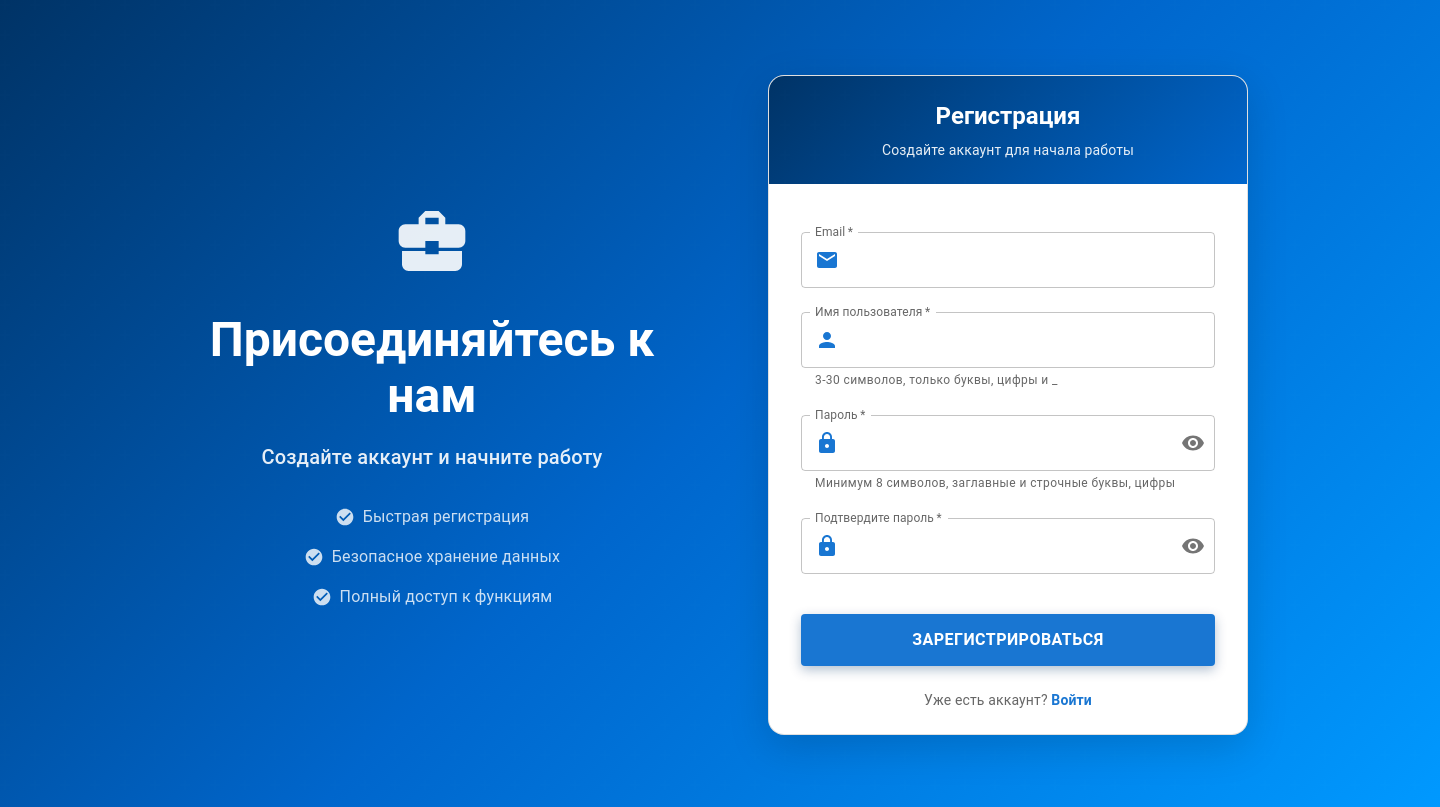
Test case: RegisterPage › handles registration error
This screenshot has width=1440, height=807.
Step 1. Type "test@example.com" into the field labelled "Email *" → (1031, 260), box [847,232,1215,288]
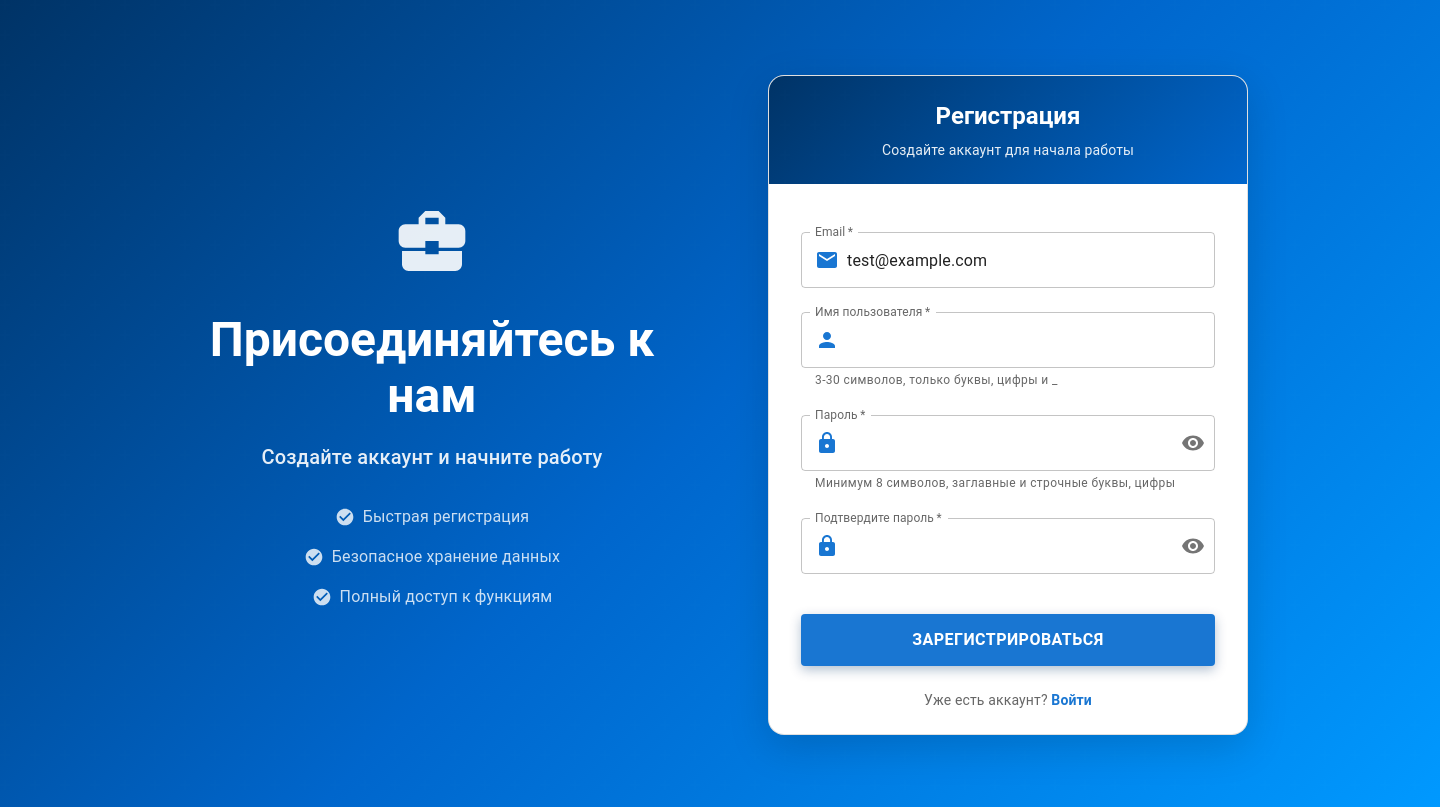
Step 2. Type "testuser" into the field labelled "Имя пользователя *" → (1031, 340), box [847,312,1215,368]
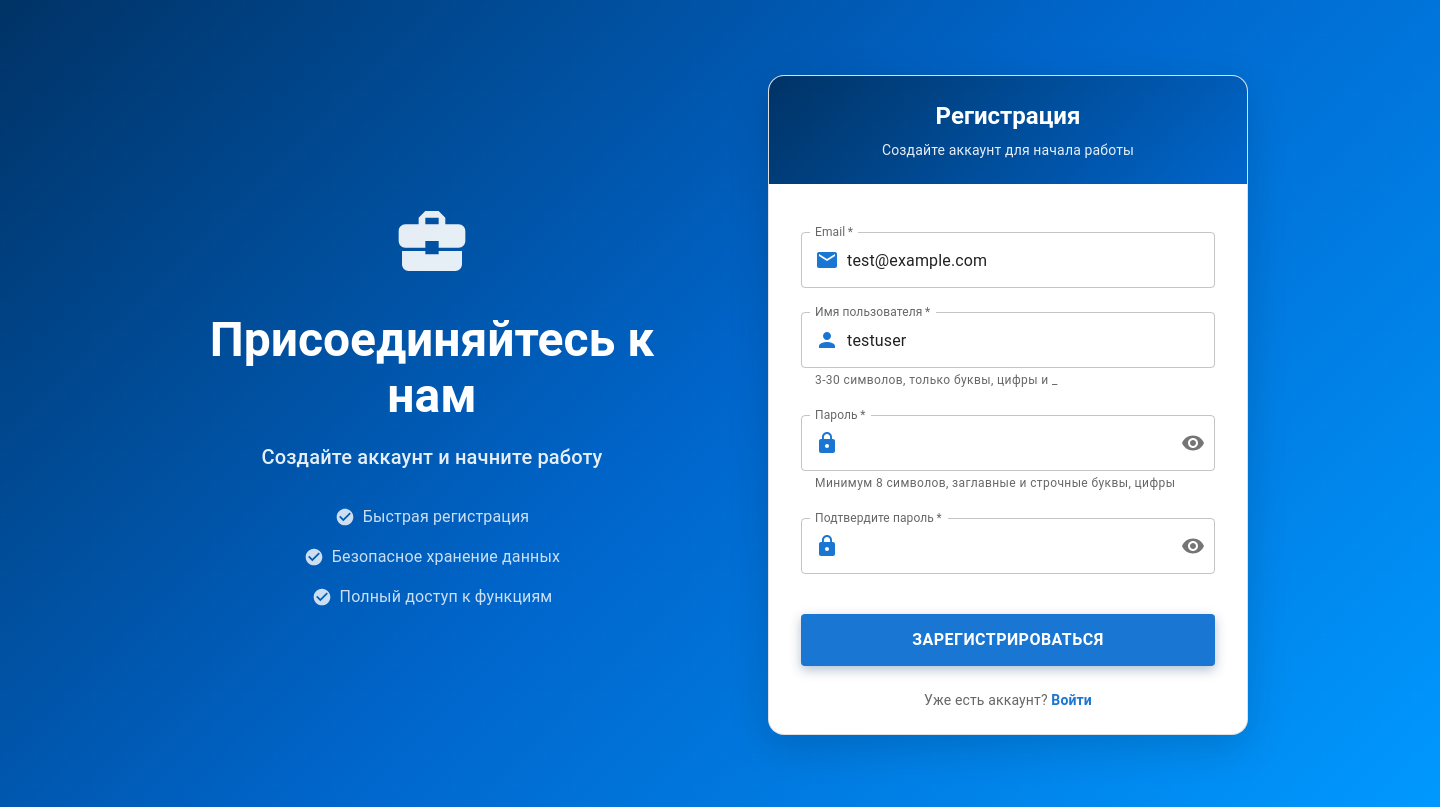
There are two password fields - get both
Step 3. Type "TestPassword123" into the password field labelled "Пароль *" → (1006, 443), box [847,415,1165,471]
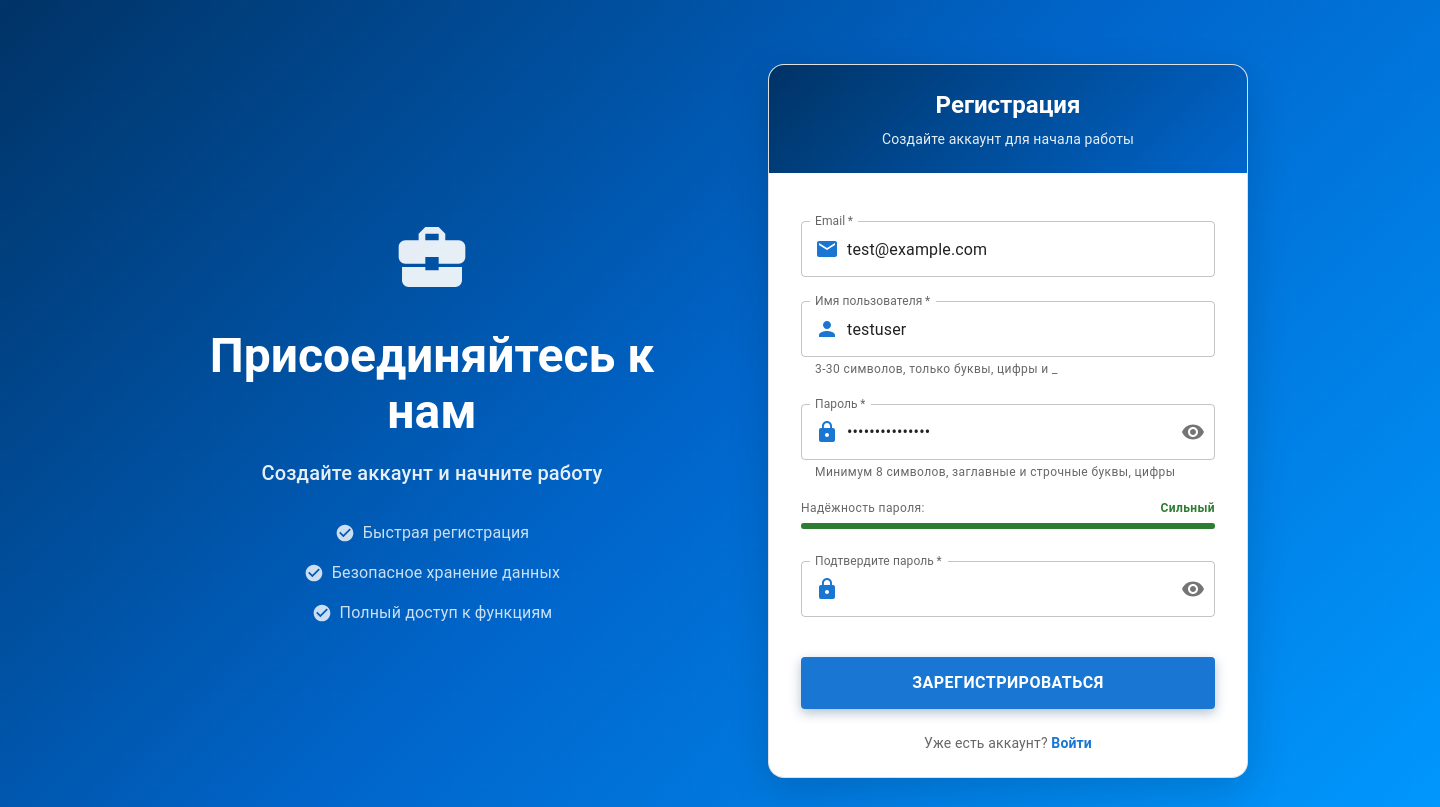
Step 4. Type "TestPassword123" into the password field labelled "Подтвердите пароль *" → (1006, 589), box [847,561,1165,617]
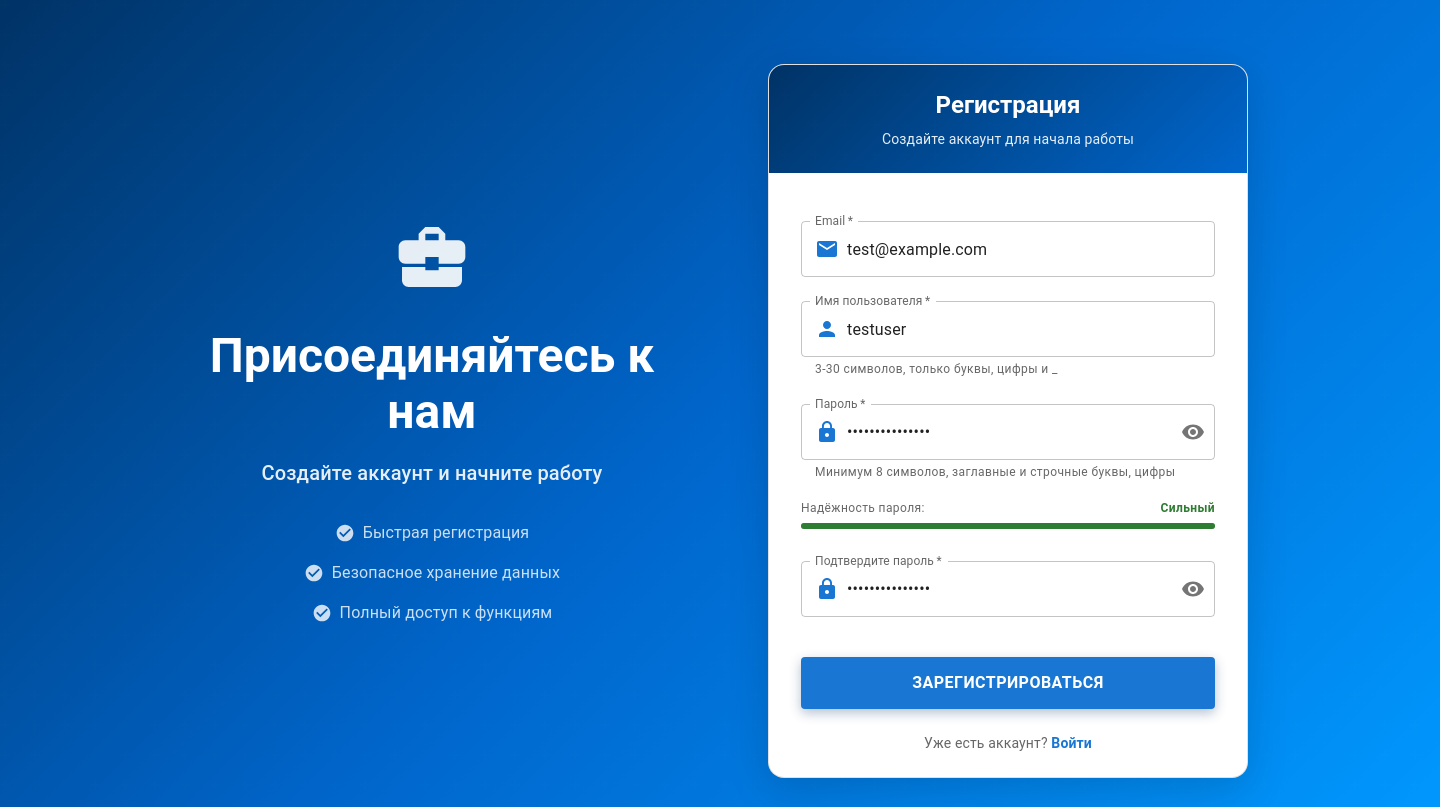
Step 5. Click the button "Зарегистрироваться" → (1008, 683), box [801,657,1215,709]
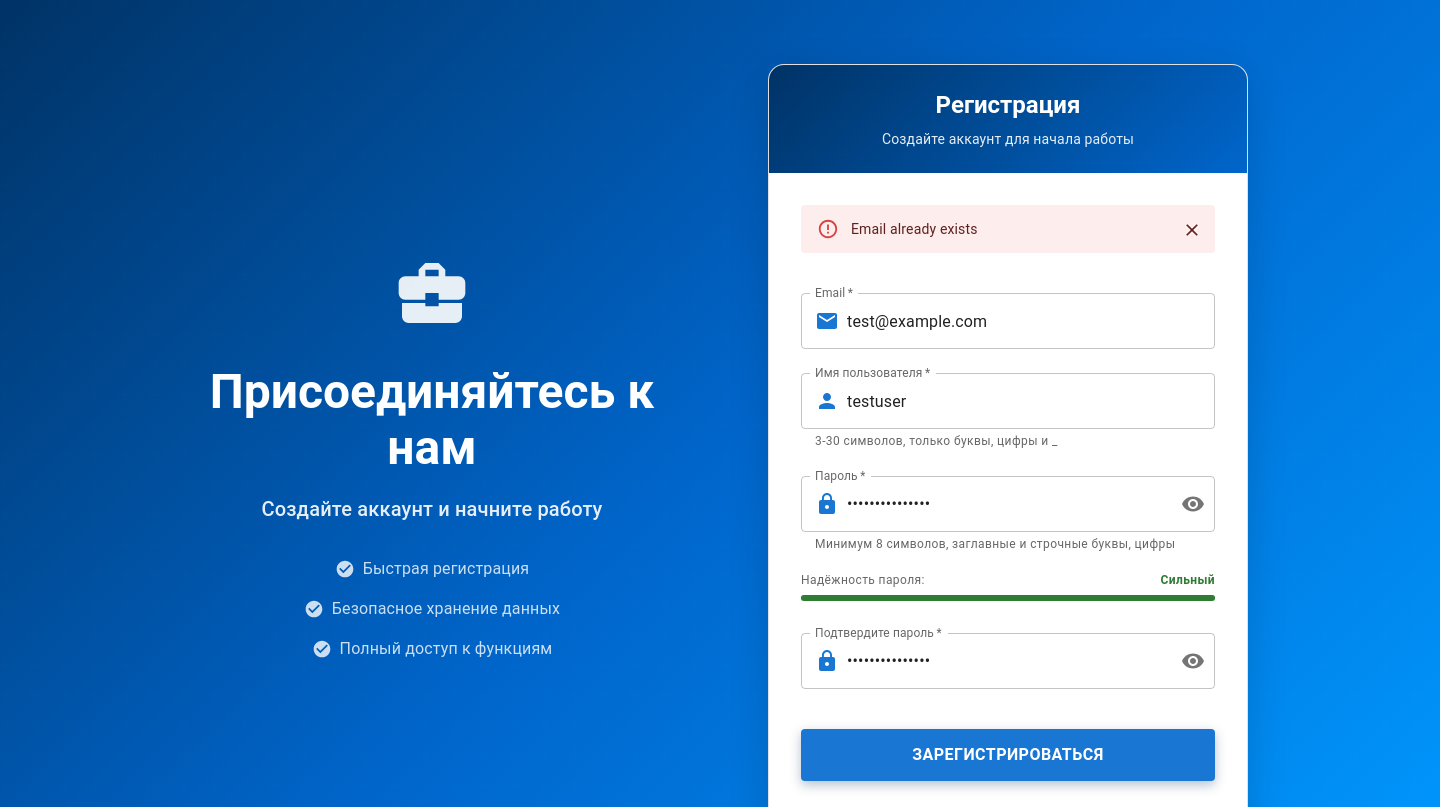
Result: the text "Email already exists" is shown at [851,221,978,237]
